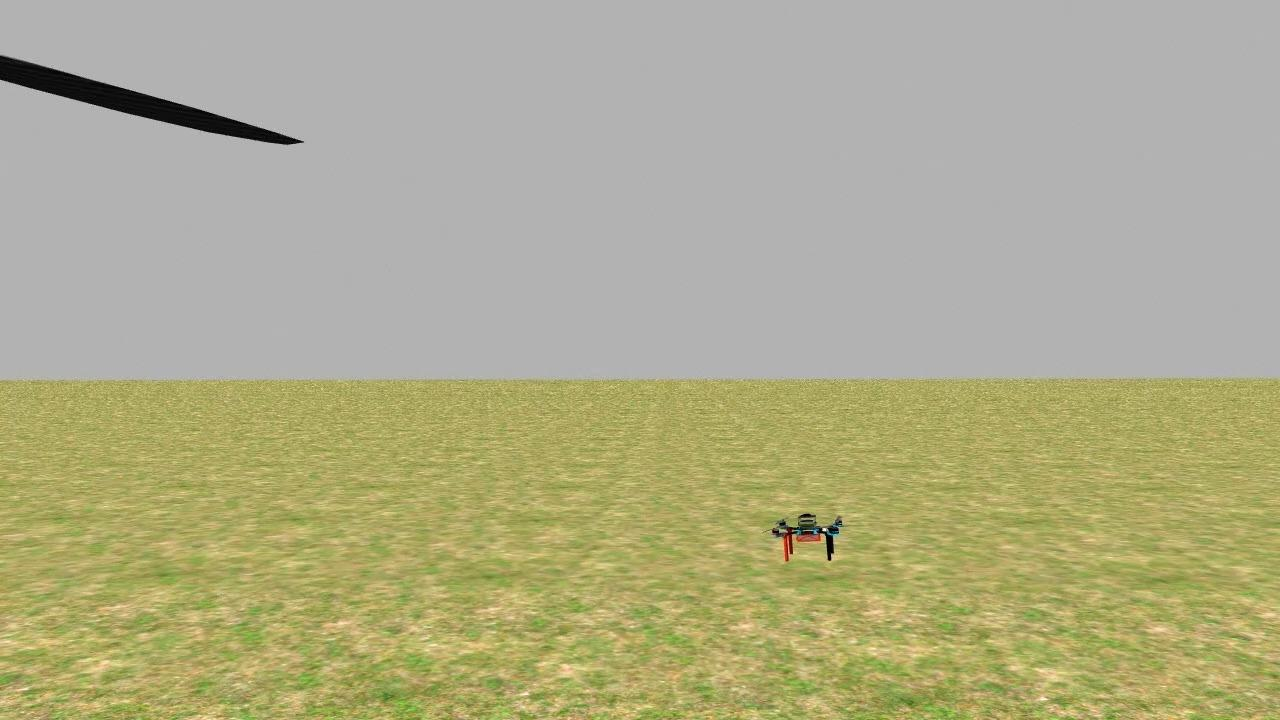UAV: (764, 503, 854, 571)
